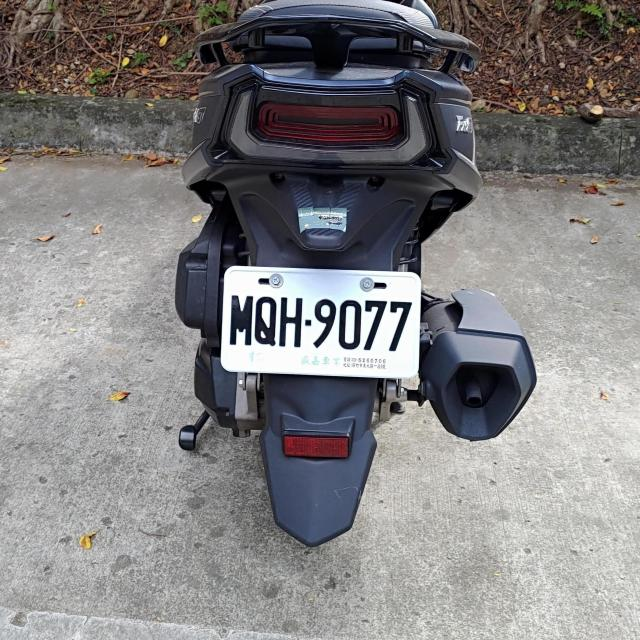W: (219, 268, 419, 377)
